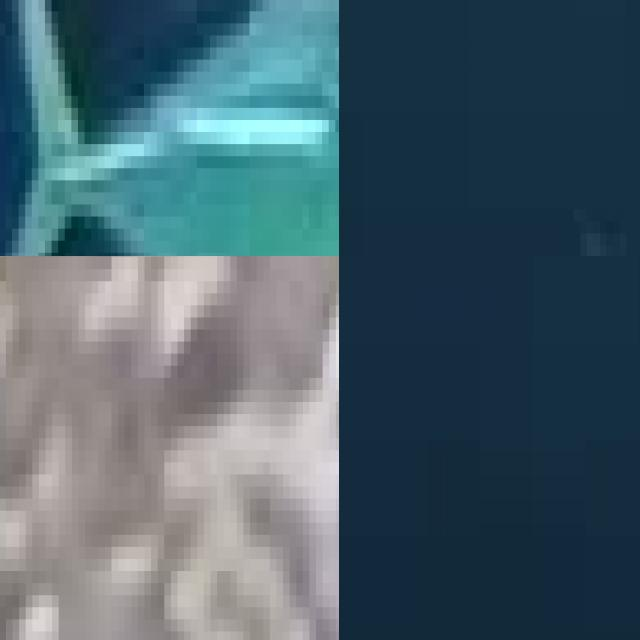fish: (0, 0, 339, 256), (250, 256, 339, 640)
